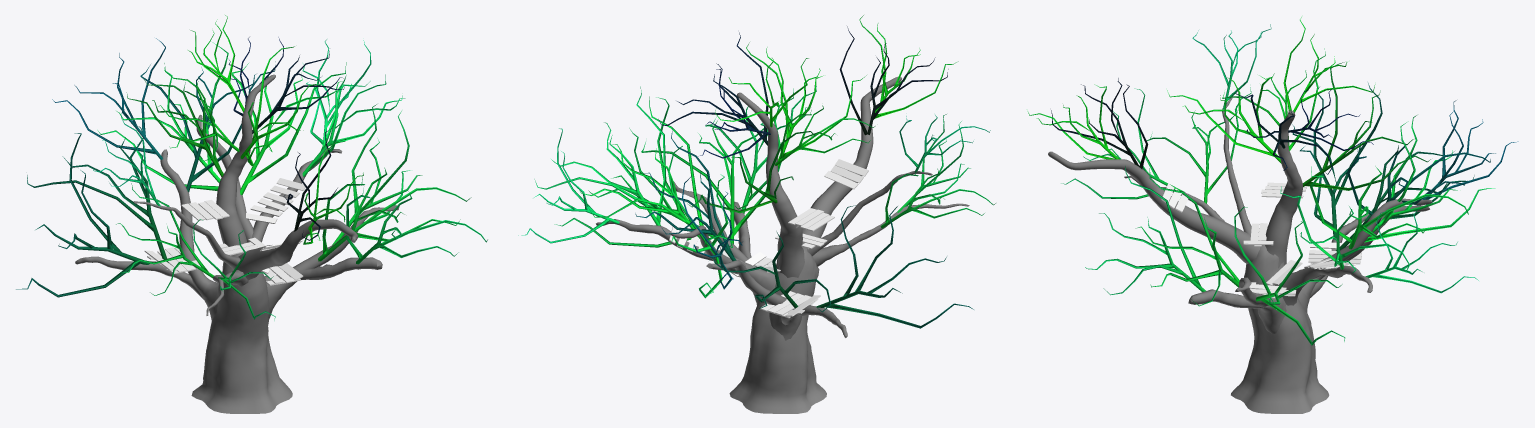
File: tree3.fbx
The picture shows the model from 3 angles, left to right: view 1: azimuth 30°, elevation 25°; view 2: azimuth 150°, elevation 25°; view 3: azimuth 270°, elevation 25°; orthographic projection. The views are drawn at different scales.
Parts seen in each view (by area): view 1: trunkT3, branch9T3, branch10T3, leaves9T3, branch4T3, leaves5T3, leaves7T3, branch1T3, leaves2.2T3, leaves5.2T3, leaves10T3, leaves2T3 (+22 smaller); view 2: trunkT3, branch9T3, leaves9T3, branch10T3, leaves10T3, leaves5T3, leaves7T3, leaves2.2T3, branch4T3, branch6T3, leaves4T3, leaves2T3 (+21 smaller); view 3: trunkT3, branch10T3, branch9T3, leaves9T3, leaves10T3, branch1T3, leaves7.2T3, leaves1T3, leaves7T3, leaves2.2T3, leaves9.3T3, leaves5T3 (+16 smaller).
Part boxes in pixels (left/top/right/bottom): trunkT3: left=191, top=252, right=292, bottom=413; branch9T3: left=216, top=74, right=275, bottom=269; branch10T3: left=237, top=219, right=357, bottom=280; leaves9T3: left=188, top=15, right=344, bottom=133; branch4T3: left=160, top=149, right=218, bottom=320; leaves5T3: left=16, top=133, right=149, bottom=297; leaves7T3: left=231, top=62, right=346, bottom=195; branch1T3: left=264, top=257, right=382, bottom=319; leaves2.2T3: left=318, top=167, right=471, bottom=261; leaves5.2T3: left=27, top=126, right=168, bottom=262; leaves10T3: left=283, top=128, right=363, bottom=244; leaves2T3: left=332, top=104, right=422, bottom=245; trunkT3: left=729, top=248, right=826, bottom=413; branch9T3: left=737, top=92, right=804, bottom=277; leaves9T3: left=659, top=32, right=808, bottom=158; branch10T3: left=802, top=77, right=901, bottom=249; leaves10T3: left=839, top=15, right=958, bottom=135; leaves5T3: left=816, top=205, right=973, bottom=328; leaves7T3: left=579, top=96, right=703, bottom=238; leaves2.2T3: left=641, top=88, right=793, bottom=243; branch4T3: left=706, top=260, right=801, bottom=340; branch6T3: left=596, top=219, right=776, bottom=302; leaves4T3: left=635, top=128, right=736, bottom=261; leaves2T3: left=554, top=97, right=714, bottom=247; trunkT3: left=1231, top=245, right=1329, bottom=413; branch10T3: left=1048, top=151, right=1259, bottom=263; branch9T3: left=1265, top=110, right=1302, bottom=268; leaves9T3: left=1235, top=17, right=1375, bottom=174; leaves10T3: left=1027, top=78, right=1148, bottom=169; branch1T3: left=1188, top=284, right=1286, bottom=333; leaves7.2T3: left=1364, top=115, right=1495, bottom=242; leaves1T3: left=1085, top=166, right=1205, bottom=295; leaves7T3: left=1310, top=166, right=1468, bottom=249; leaves2.2T3: left=1135, top=168, right=1239, bottom=306; leaves9.3T3: left=1302, top=62, right=1430, bottom=190; leaves5T3: left=1292, top=83, right=1382, bottom=238.
Size of the model in its own units: 1246 by 1045 by 1299.
